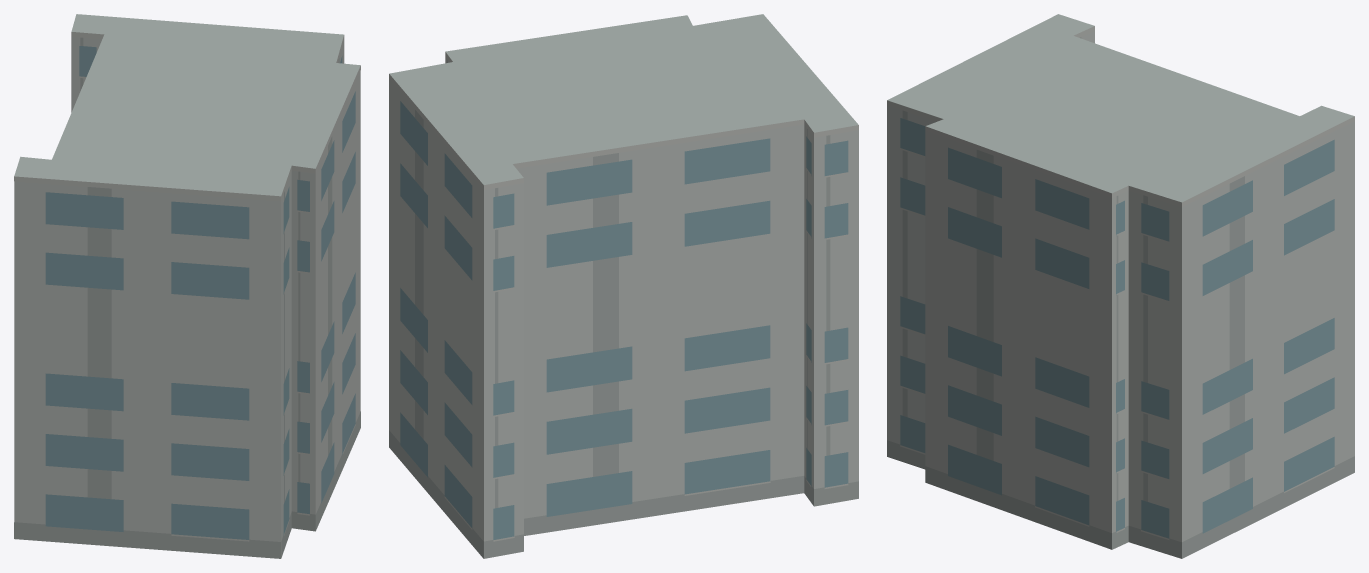
Rendered from survey-upis-32921057.glb.
3 renders of one model, left to right at view 1: azimuth 30°, elevation 25°; view 2: azimuth 150°, elevation 25°; view 3: azimuth 270°, elevation 25°, orthographic. The views are drawn at different scales.
Parts seen in each view (by area): view 1: survey-upis-32921057.tmp; view 2: survey-upis-32921057.tmp; view 3: survey-upis-32921057.tmp.
Boxes of the visible parts, <box> form: survey-upis-32921057.tmp: <box>14,14,360,558</box>; survey-upis-32921057.tmp: <box>389,14,858,558</box>; survey-upis-32921057.tmp: <box>887,14,1354,558</box>.
Bounding box in the file's own units: 20.08 × 17.7 × 21.06.
